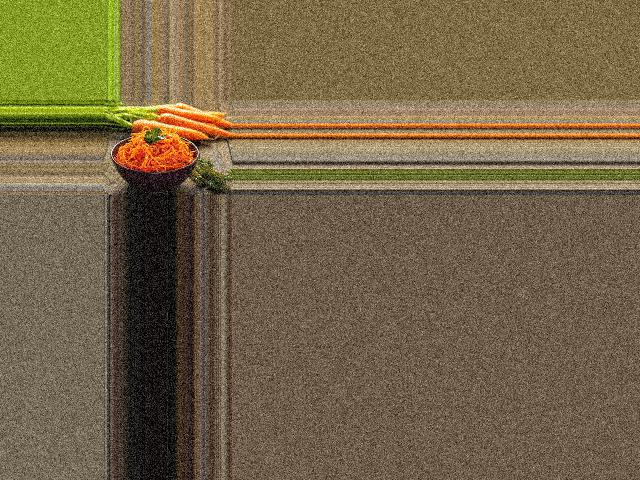carrot: (126, 119, 213, 140)
